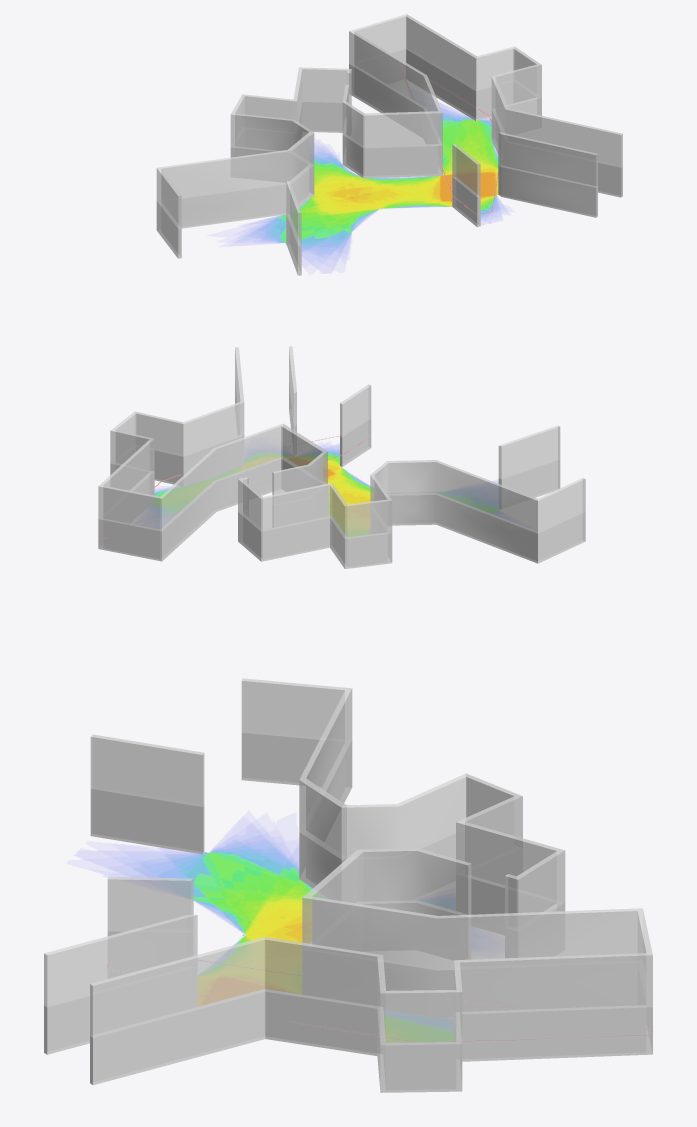
Rendered from houseo.glb.
3 renders of one model, top to bottom at view 1: azimuth 30°, elevation 25°; view 2: azimuth 150°, elevation 25°; view 3: azimuth 270°, elevation 25°, orthographic. The views are drawn at different scales.
Parts seen in each view (by area): view 1: Mesh_9, Mesh_8, heatmap_1_houseo_color, Mesh_4, Mesh_3, Mesh_7, Mesh_2, Mesh_5, Mesh_6, Mesh_0, Mesh_1; view 2: Mesh_8, Mesh_9, Mesh_3, Mesh_4, heatmap_1_houseo_color, Mesh_6, Mesh_5, Mesh_1, Mesh_0, Mesh_7; view 3: Mesh_9, Mesh_8, Mesh_4, heatmap_1_houseo_color, Mesh_6, Mesh_7, Mesh_3, Mesh_1, Mesh_5, Mesh_2.
Boxes of the visible parts, <box> form: Mesh_9: <box>342,14,622,197</box>; Mesh_8: <box>156,67,351,258</box>; heatmap_1_houseo_color: <box>237,103,504,263</box>; Mesh_4: <box>342,47,622,197</box>; Mesh_3: <box>156,100,351,258</box>; Mesh_7: <box>498,132,597,217</box>; Mesh_2: <box>498,165,597,217</box>; Mesh_5: <box>452,144,480,226</box>; Mesh_6: <box>286,181,301,275</box>; Mesh_0: <box>452,177,480,227</box>; Mesh_1: <box>286,214,301,275</box>; Mesh_8: <box>238,460,585,568</box>; Mesh_9: <box>98,347,327,561</box>; Mesh_3: <box>238,493,585,568</box>; Mesh_4: <box>98,380,326,561</box>; heatmap_1_houseo_color: <box>154,446,497,536</box>; Mesh_6: <box>498,425,560,497</box>; Mesh_5: <box>340,384,371,466</box>; Mesh_1: <box>499,458,560,497</box>; Mesh_0: <box>340,417,370,466</box>; Mesh_7: <box>289,346,296,431</box>; Mesh_9: <box>90,848,652,1092</box>; Mesh_8: <box>241,678,565,927</box>; Mesh_4: <box>90,900,652,1092</box>; heatmap_1_houseo_color: <box>109,824,453,1042</box>; Mesh_6: <box>90,734,204,854</box>; Mesh_7: <box>44,915,197,1054</box>; Mesh_3: <box>241,730,565,914</box>; Mesh_1: <box>90,786,204,854</box>; Mesh_5: <box>107,876,193,935</box>; Mesh_2: <box>44,993,89,1054</box>.
Bounding box in the file's own units: 1.25 × 0.1642 × 1.
Materials: 12 (2 with a texture image).
